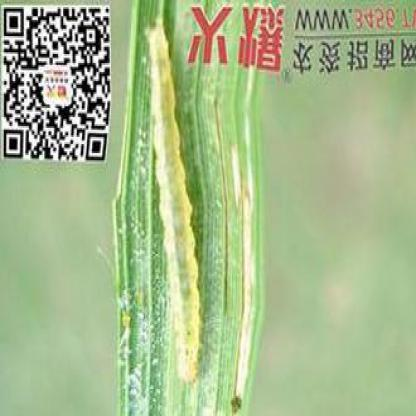leaf-folder: (136, 16, 191, 416)
